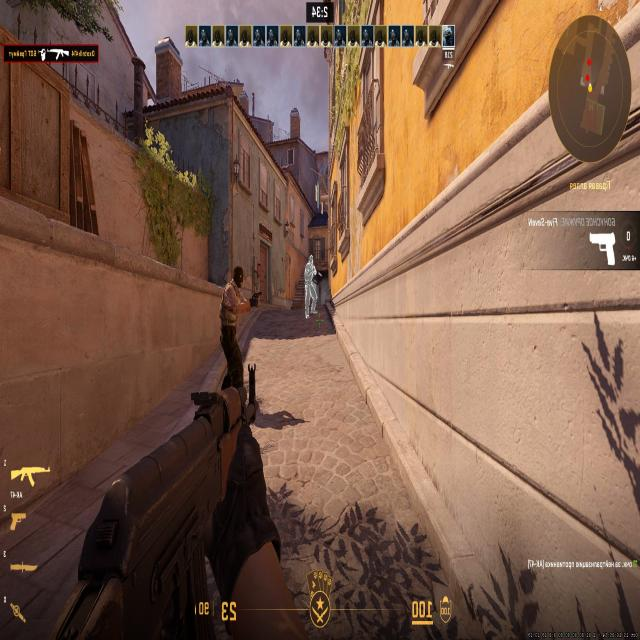T: (222, 268, 246, 370)
T_heat: (233, 271, 243, 289)
